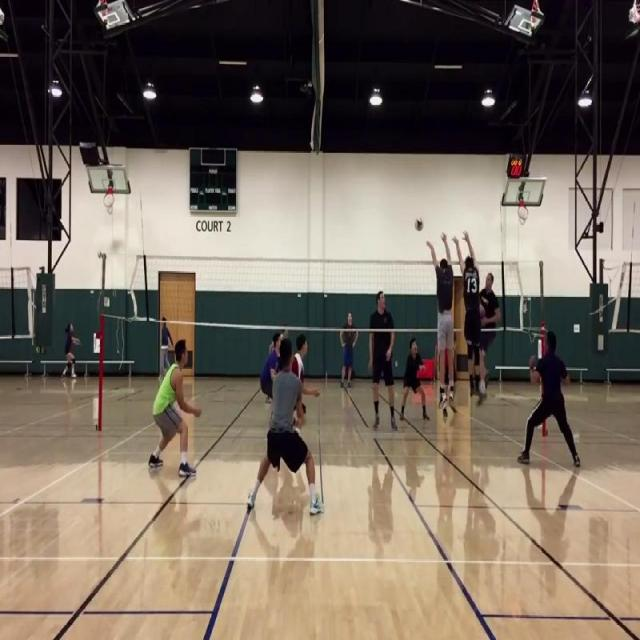volleyball: (414, 218, 424, 230)
